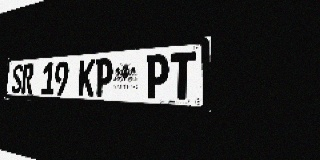1: (41, 62, 56, 95)
9: (54, 61, 69, 95)
K: (78, 59, 96, 96)
P: (145, 53, 169, 99), (94, 58, 113, 97)
R: (21, 63, 34, 94)
S: (11, 64, 23, 94)
T: (169, 51, 196, 100)
